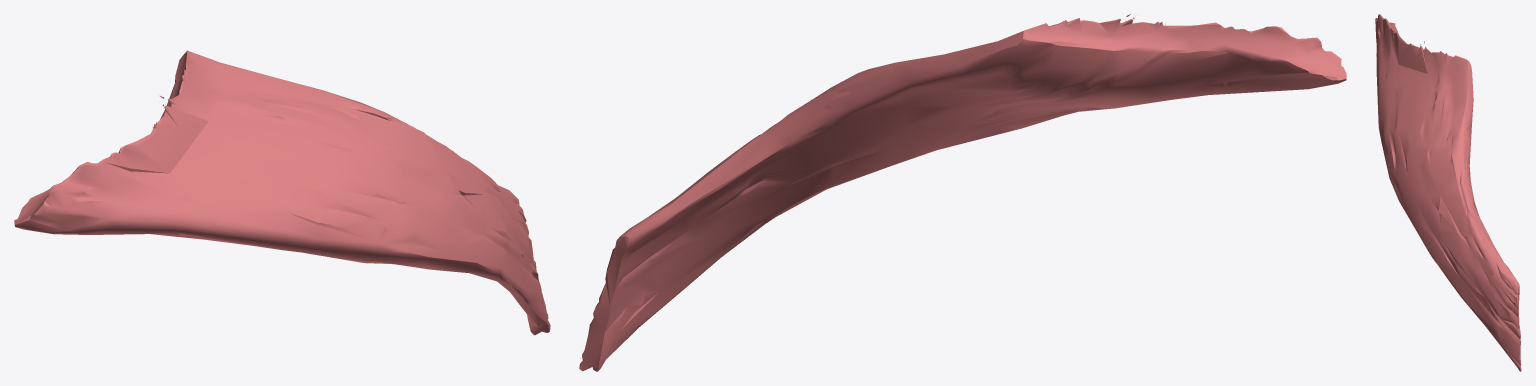
The picture shows the model from 3 angles, left to right: view 1: azimuth 30°, elevation 25°; view 2: azimuth 150°, elevation 25°; view 3: azimuth 270°, elevation 25°; orthographic projection. The views are drawn at different scales.
Parts seen in each view (by area): view 1: FJ1447M; view 2: FJ1447M; view 3: FJ1447M.
Boxes of the visible parts, bbox=[...] form: FJ1447M: bbox=[14, 50, 550, 335]; FJ1447M: bbox=[579, 14, 1346, 371]; FJ1447M: bbox=[1375, 14, 1521, 371].
Bounding box in the file's own units: 0.167 × 0.1009 × 0.0628.
